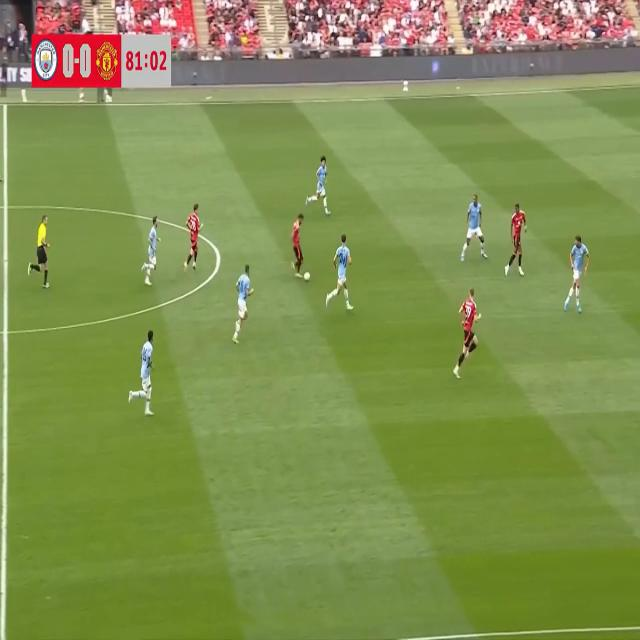ball: (303, 262, 314, 292)
players: (124, 324, 166, 422), (453, 285, 484, 391), (563, 227, 594, 324), (456, 191, 491, 271), (230, 253, 258, 344), (501, 192, 529, 282), (305, 145, 336, 226), (325, 238, 357, 314), (182, 200, 208, 282), (140, 211, 166, 292), (288, 207, 305, 283)
refree: (25, 208, 56, 292)
